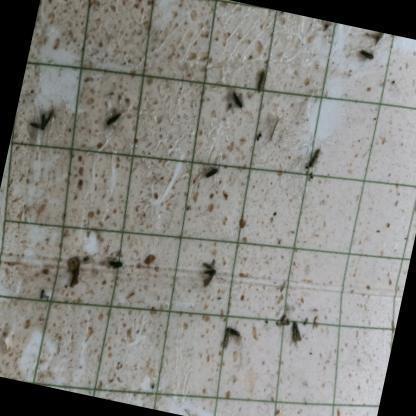prays_oleae: (297, 138, 326, 188), (30, 96, 62, 138), (96, 246, 130, 284), (247, 62, 275, 108), (194, 248, 226, 286), (280, 315, 304, 358), (97, 101, 127, 133), (222, 80, 248, 114), (200, 155, 224, 191), (350, 43, 386, 65), (218, 324, 236, 356), (294, 399, 323, 416), (223, 322, 244, 338)
